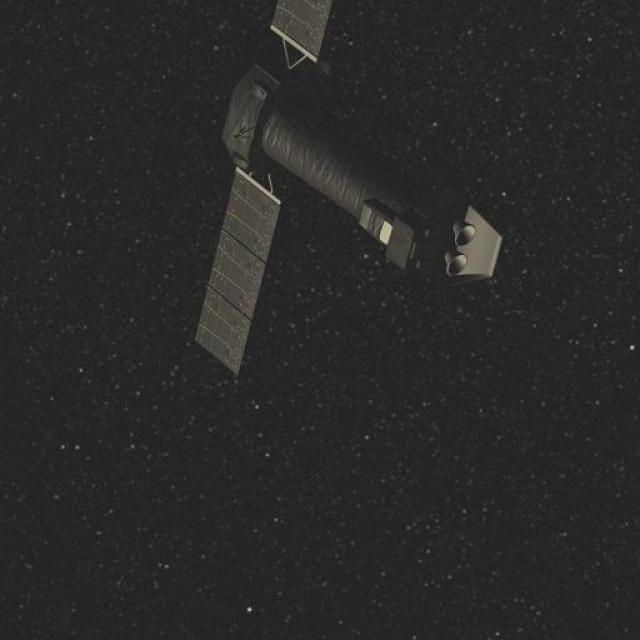xmm_newton: (199, 0, 492, 360)
